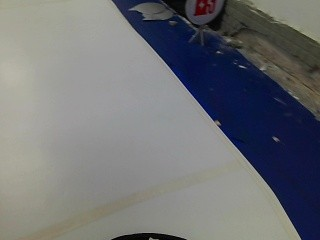battery: (181, 0, 225, 28)
